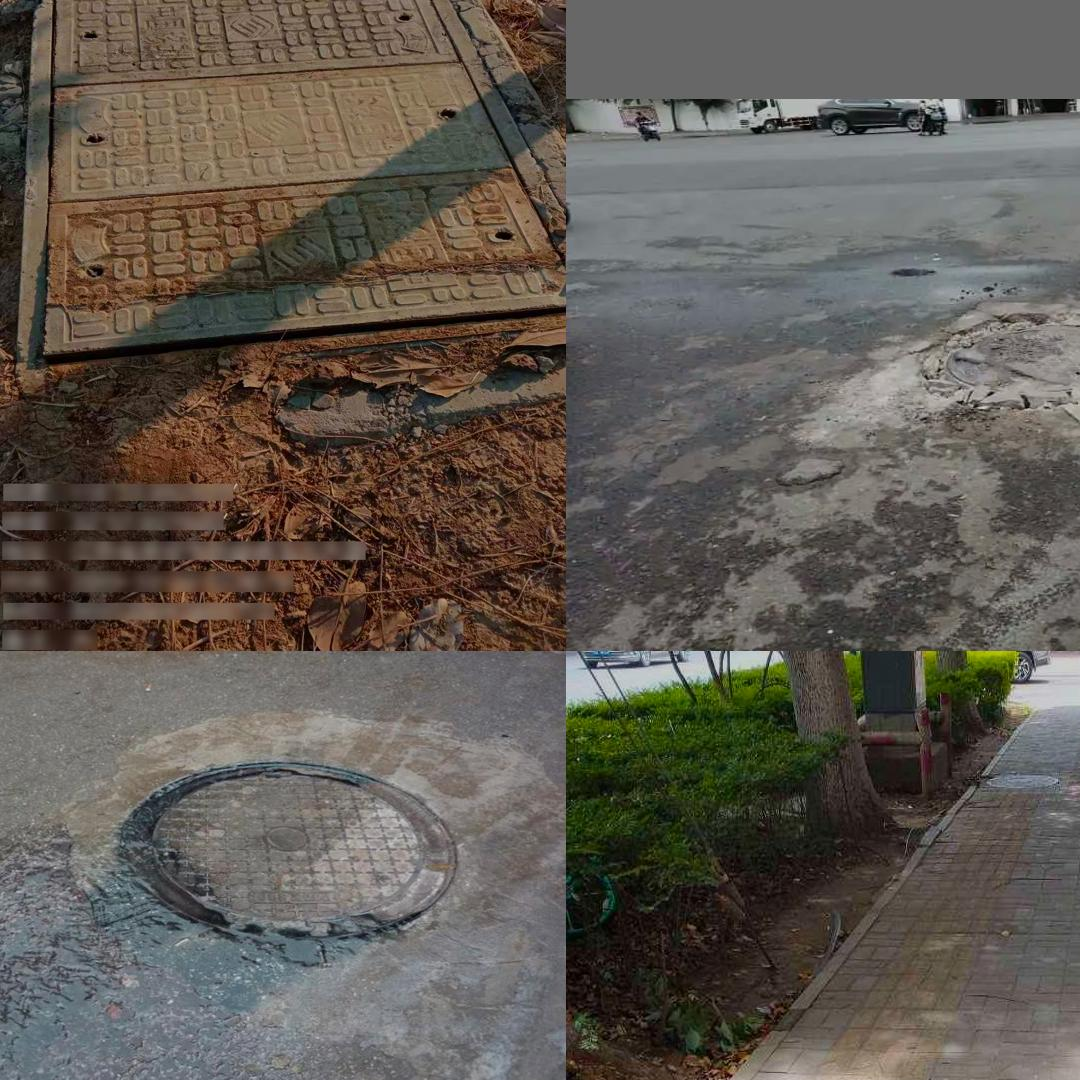circle: (5, 0, 566, 380), (68, 732, 484, 984), (849, 303, 1080, 457)
